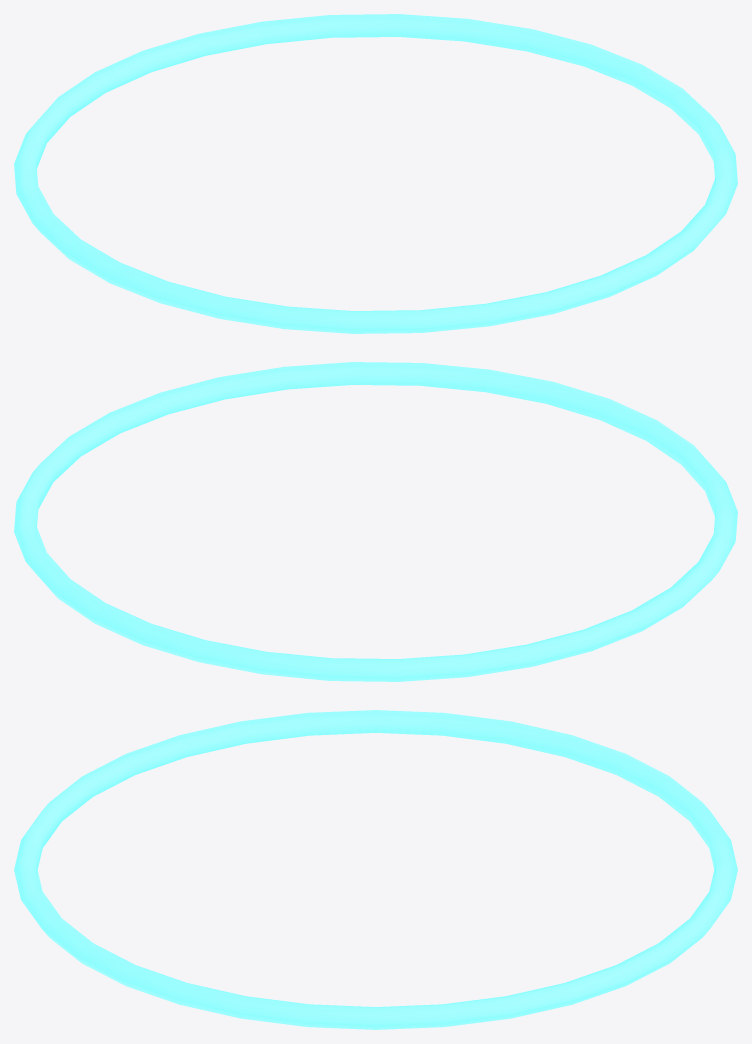
File: VFX_AreaRing_v01.glb
3 views of the same model, one above another, from view 1: azimuth 30°, elevation 25°; view 2: azimuth 150°, elevation 25°; view 3: azimuth 270°, elevation 25° (orthographic).
Parts seen in each view (by area): view 1: MESH_AreaRing; view 2: MESH_AreaRing; view 3: MESH_AreaRing.
Part boxes in pixels (x1=…): MESH_AreaRing: x1=14, y1=14, x2=737, y2=333; MESH_AreaRing: x1=14, y1=362, x2=737, y2=681; MESH_AreaRing: x1=14, y1=710, x2=737, y2=1029.
Bounding box in the file's own units: 2.07 × 0.0666 × 2.07.
